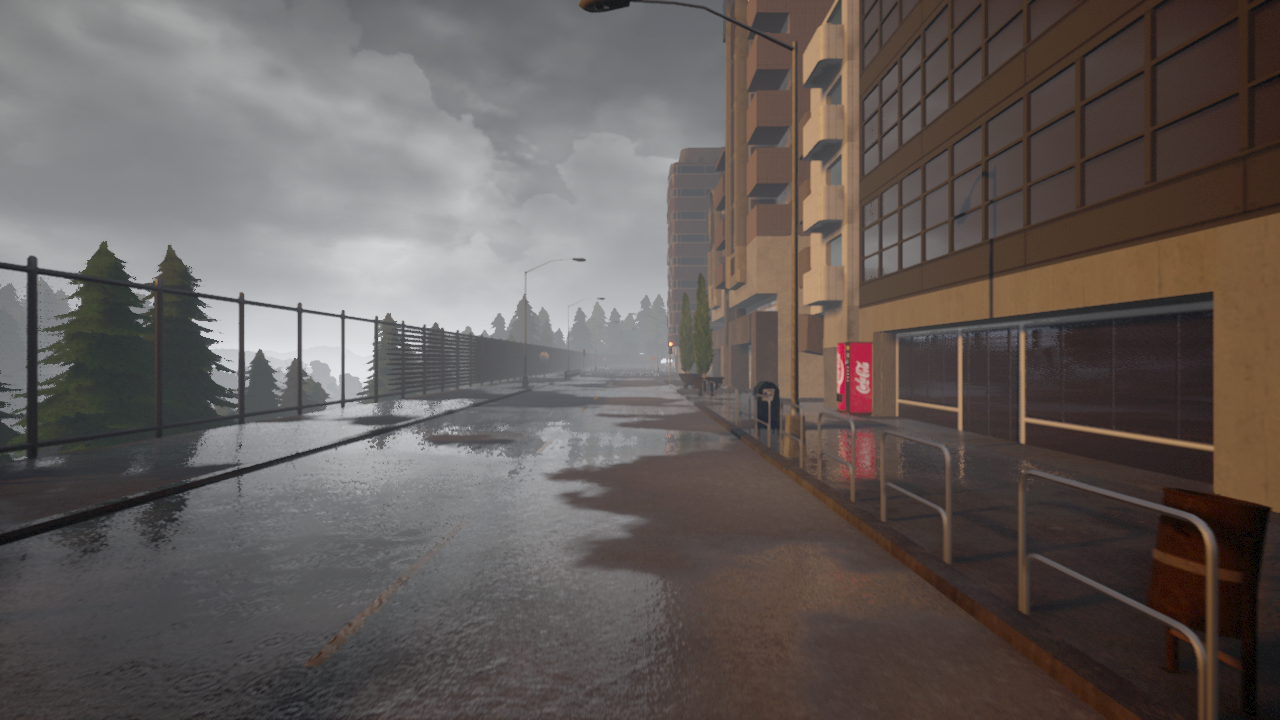red: (668, 341, 673, 354)
